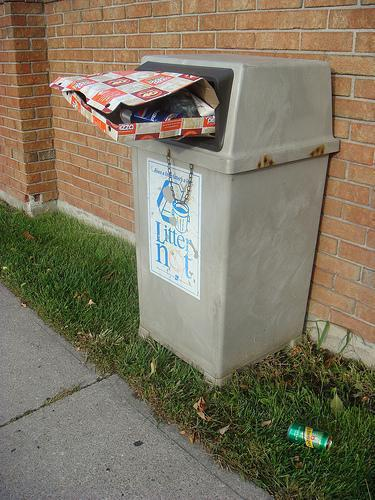Bote de Basura: (138, 51, 335, 353)
